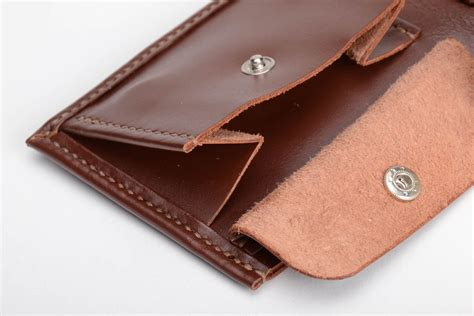cuero: (25, 2, 474, 289)
